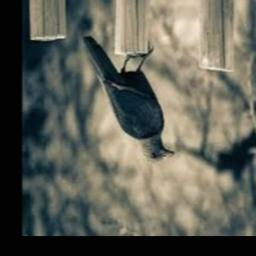Crow: (81, 36, 174, 164)
